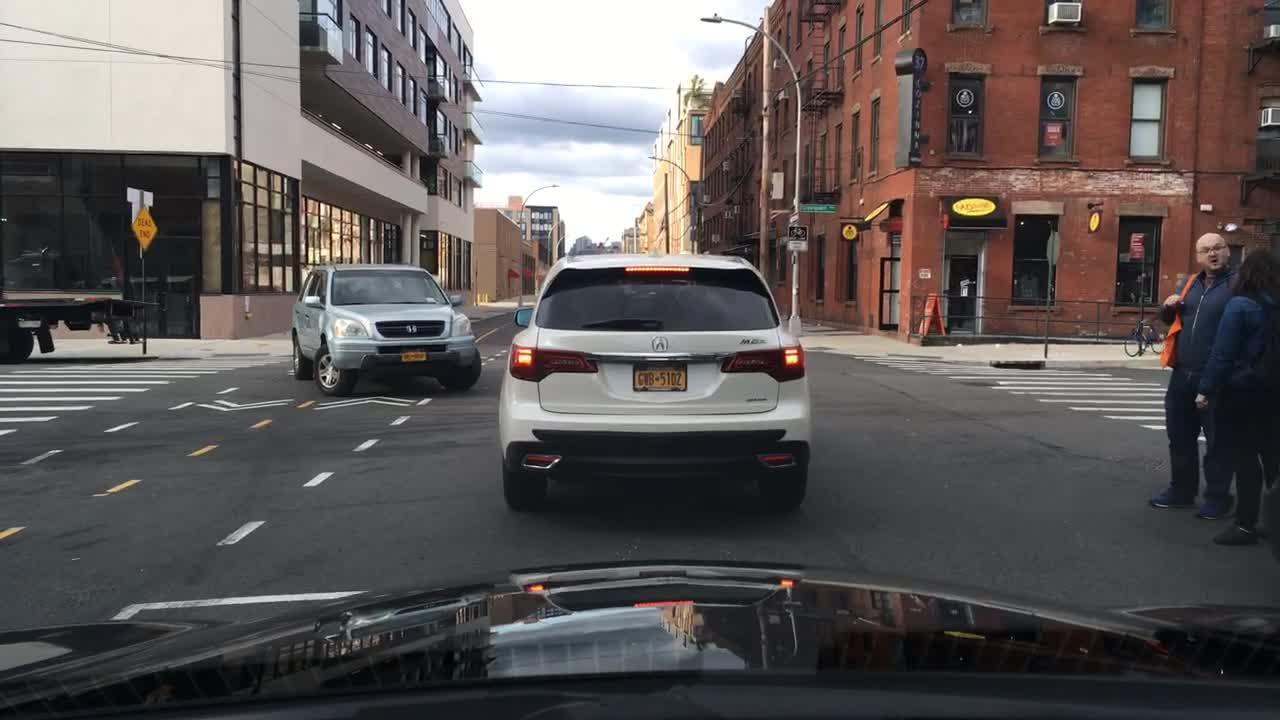Honda: (403, 320, 421, 338)
acura: (648, 327, 672, 357)
